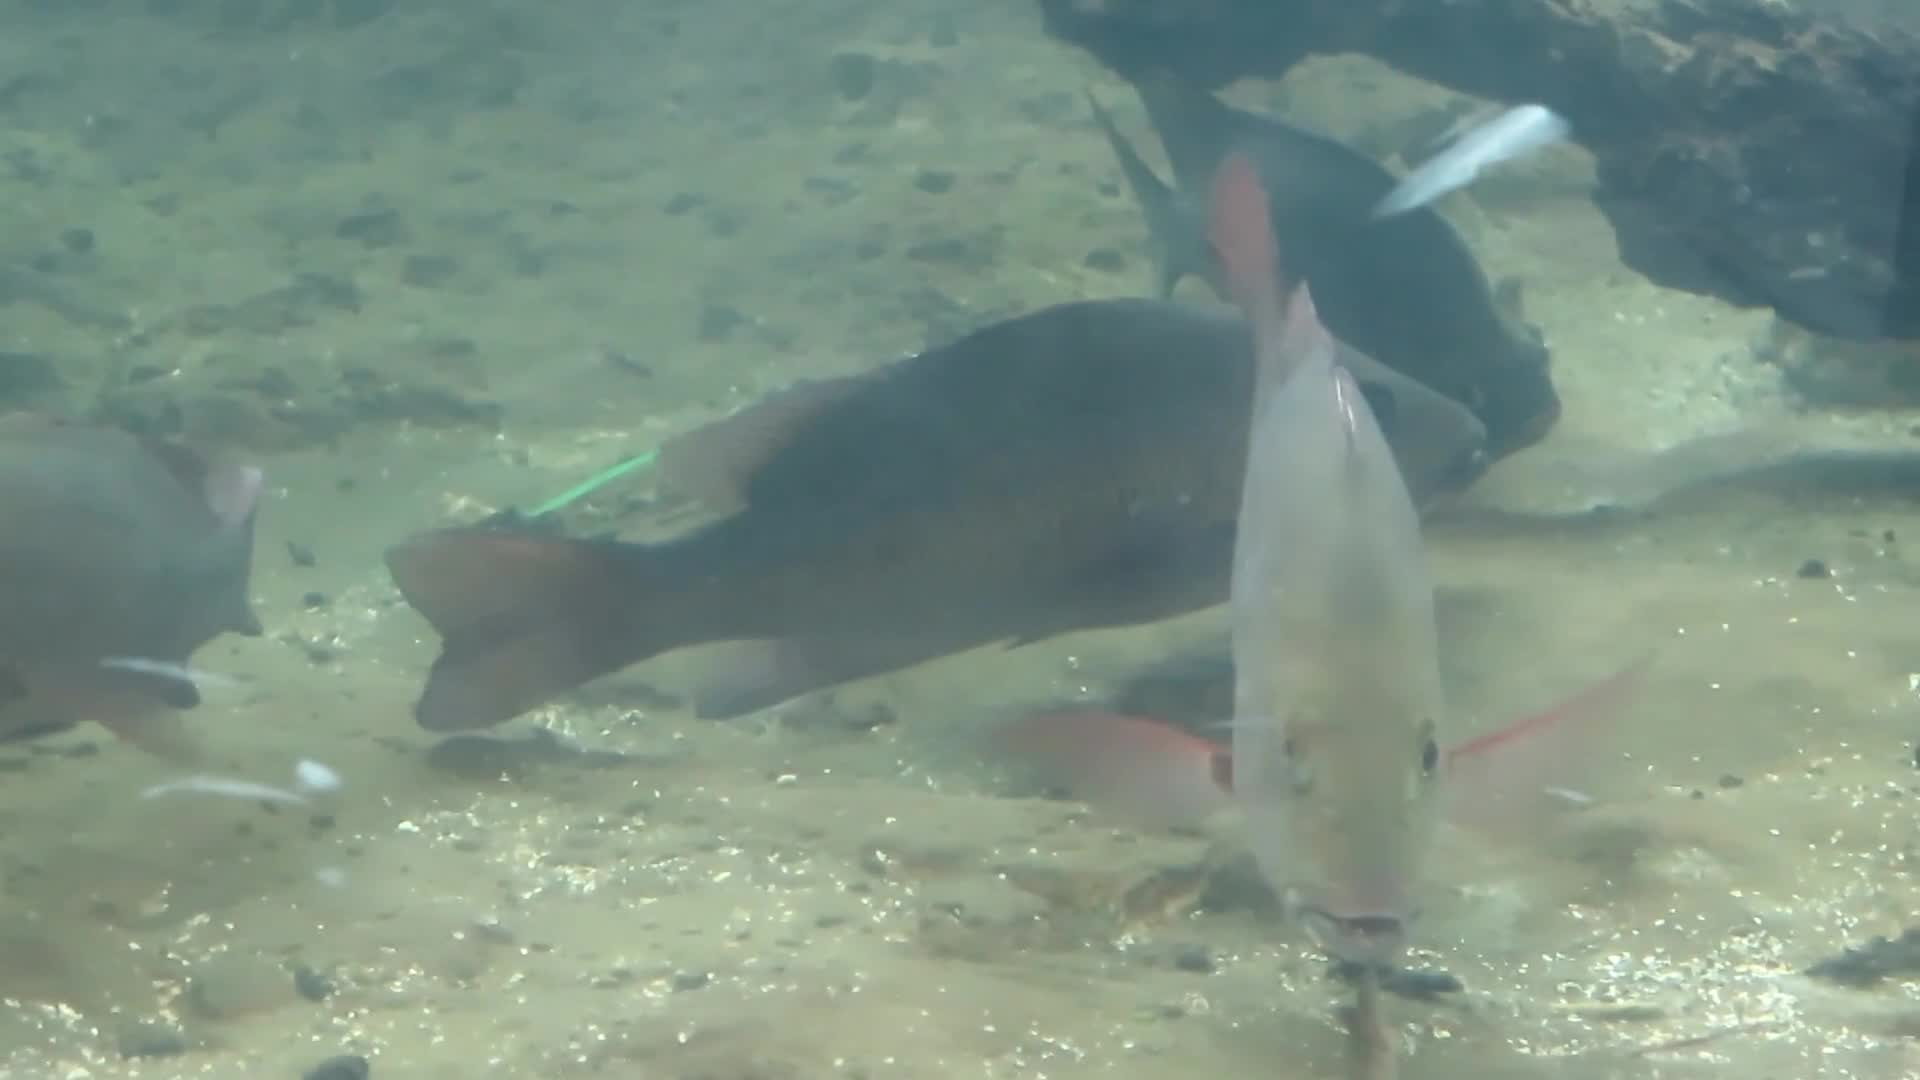Lutjanus argentimaculatus: (592, 278, 1474, 750), (8, 396, 262, 757)
